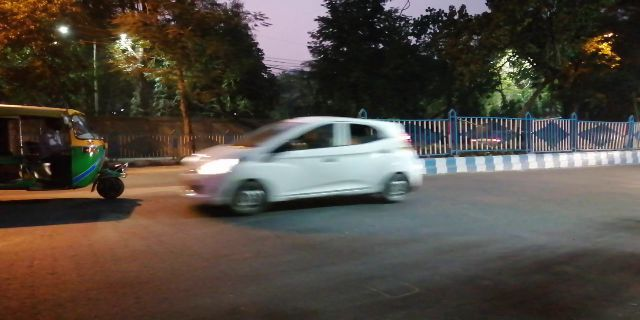Autorickshaw: (9, 103, 130, 203)
Car: (177, 116, 432, 215)
